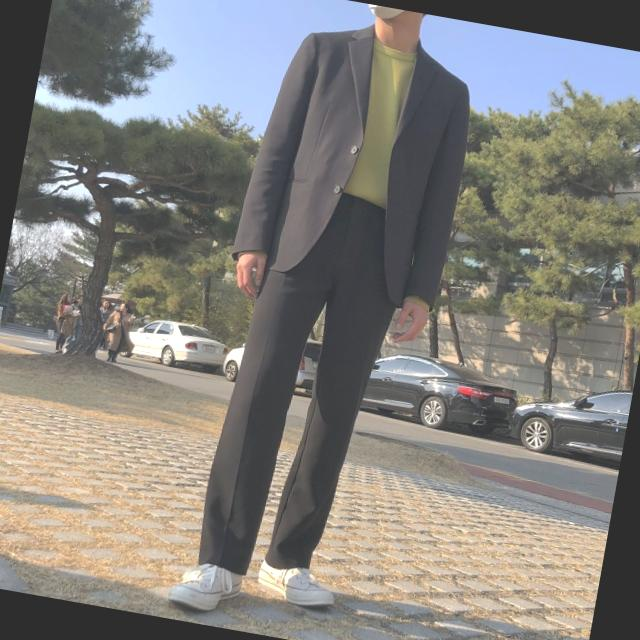blazer: (223, 5, 487, 328)
slacks: (192, 177, 420, 596)
